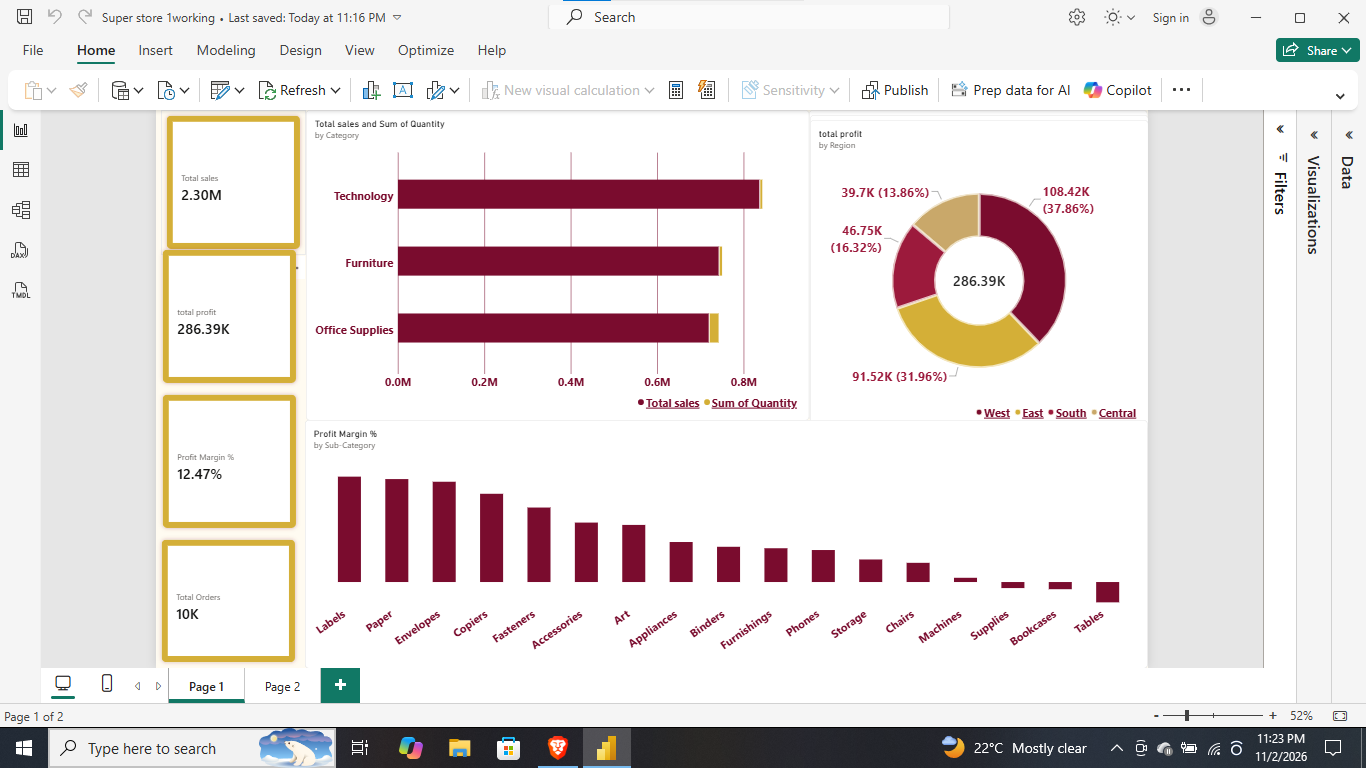

What the dashboard file says about the page in this screenshot:
{"tool":"powerbi","page":{"name":"Page 1","canvas":[1920,1080],"ordinal":0},"visuals":[{"type":"cardVisual","title":"Total sales","fields":{"Data":["SampleSuperstore.Total sales"]},"box":[10,0,280,280],"z":0},{"type":"cardVisual","fields":{"Data":["SampleSuperstore.total profit"]},"box":[2.1,259.4,280,280],"z":1},{"type":"cardVisual","fields":{"Data":["SampleSuperstore.Profit Margin %"]},"box":[2.1,540.1,280,280],"z":2},{"type":"cardVisual","fields":{"Data":["SampleSuperstore.Total Orders"]},"box":[0,820.7,280.7,259.4],"z":3},{"type":"barChart","fields":{"Category":["SampleSuperstore.Category"],"Y":["SampleSuperstore.Total sales","Sum(SampleSuperstore.Quantity)"]},"box":[290.6,0,973.7,600.7],"z":4},{"type":"donutChart","fields":{"Category":["SampleSuperstore.Region"],"Y":["SampleSuperstore.total profit"]},"box":[1264.3,0,654.9,600.7],"z":5},{"type":"columnChart","fields":{"Category":["SampleSuperstore.Sub-Category"],"Y":["SampleSuperstore.Profit Margin %"]},"box":[289.2,599.6,1630.8,480.5],"z":6},{"type":"donutChart","fields":{"Category":["SampleSuperstore.Region"],"Y":["SampleSuperstore.total profit"]},"box":[1265.1,10,654.9,600.7],"z":7},{"type":"donutChart","fields":{"Category":["SampleSuperstore.Region"],"Y":["SampleSuperstore.total profit"]},"box":[1265.1,20,654.9,600.7],"z":8},{"type":"columnChart","fields":{"Category":["SampleSuperstore.Sub-Category"],"Y":["SampleSuperstore.Profit Margin %"]},"box":[289.2,599.5,1630.8,480.5],"z":9}]}

Visuals, with their boxes on the page's 1920x1080 design canvas (x1, y1, x2, y2). These are canvas units, not pixel positions in the 1366x768 screenshot, which may show the page scaled, cropped or inside an application window:
"Total sales" cardVisual: 10/0/290/280
cardVisual - SampleSuperstore.total profit: 2/259/282/539
cardVisual - SampleSuperstore.Profit Margin %: 2/540/282/820
cardVisual - SampleSuperstore.Total Orders: 0/821/281/1080
barChart - SampleSuperstore.Category x SampleSuperstore.Total sales: 291/0/1264/601
donutChart - SampleSuperstore.Region x SampleSuperstore.total profit: 1264/0/1919/601
columnChart - SampleSuperstore.Sub-Category x SampleSuperstore.Profit Margin %: 289/600/1920/1080
donutChart - SampleSuperstore.Region x SampleSuperstore.total profit: 1265/10/1920/611
donutChart - SampleSuperstore.Region x SampleSuperstore.total profit: 1265/20/1920/621
columnChart - SampleSuperstore.Sub-Category x SampleSuperstore.Profit Margin %: 289/600/1920/1080
